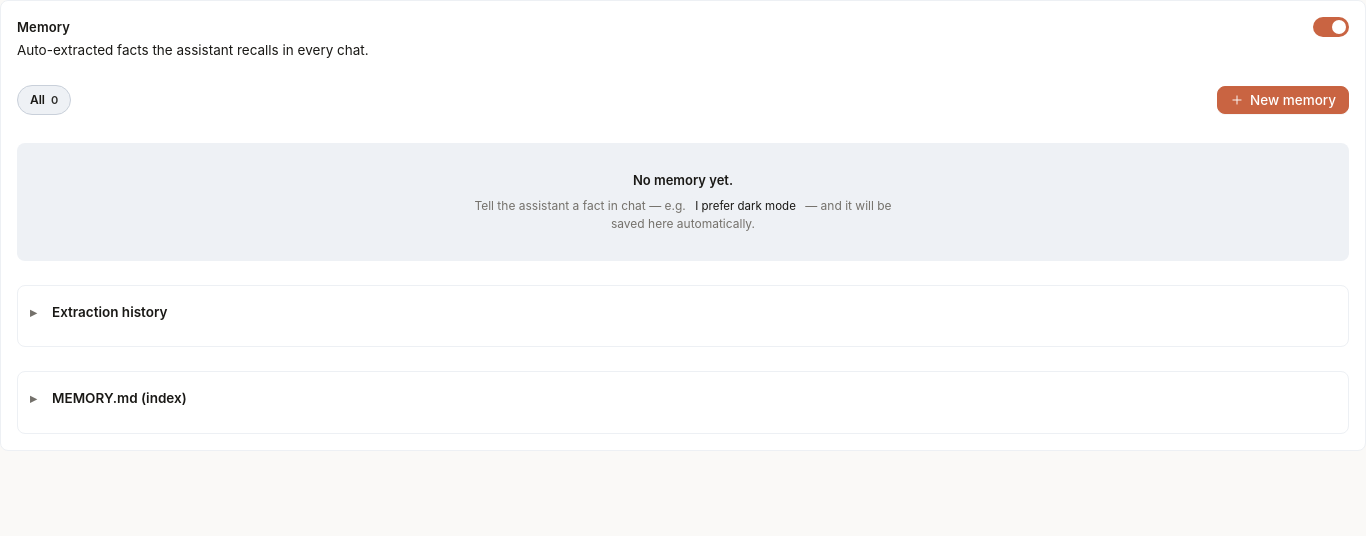
Test case: MemorySection › toggles memory injection off and persists the PATCH payload
Click the checkbox named "Enable memory injection" at (1331, 27), box top-left (1313, 17), bottom-right (1349, 37)
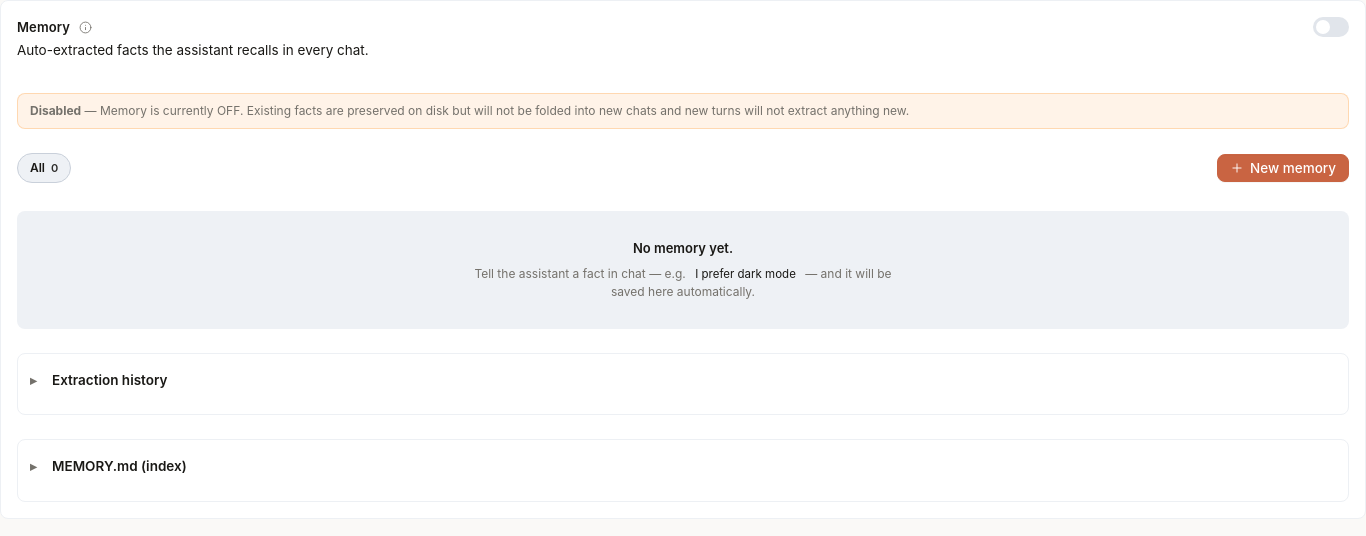
Expected: the message shows "Memory is currently OFF.", top-left (100, 103), bottom-right (909, 118)
